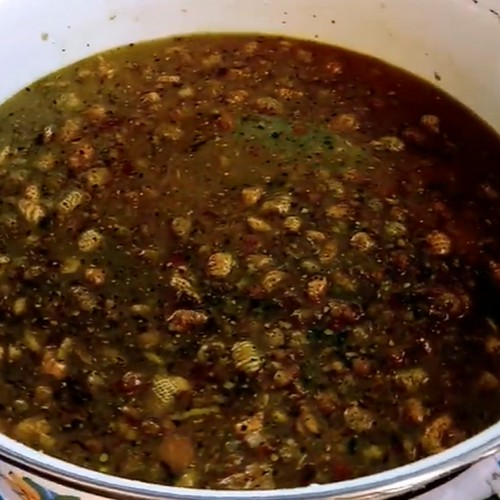komoh: (19, 56, 466, 467)
